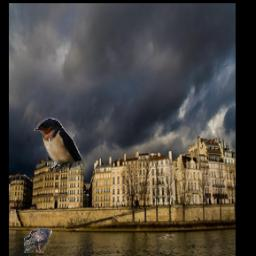Crow: (24, 228, 52, 253)
Swallow: (35, 119, 83, 172)
